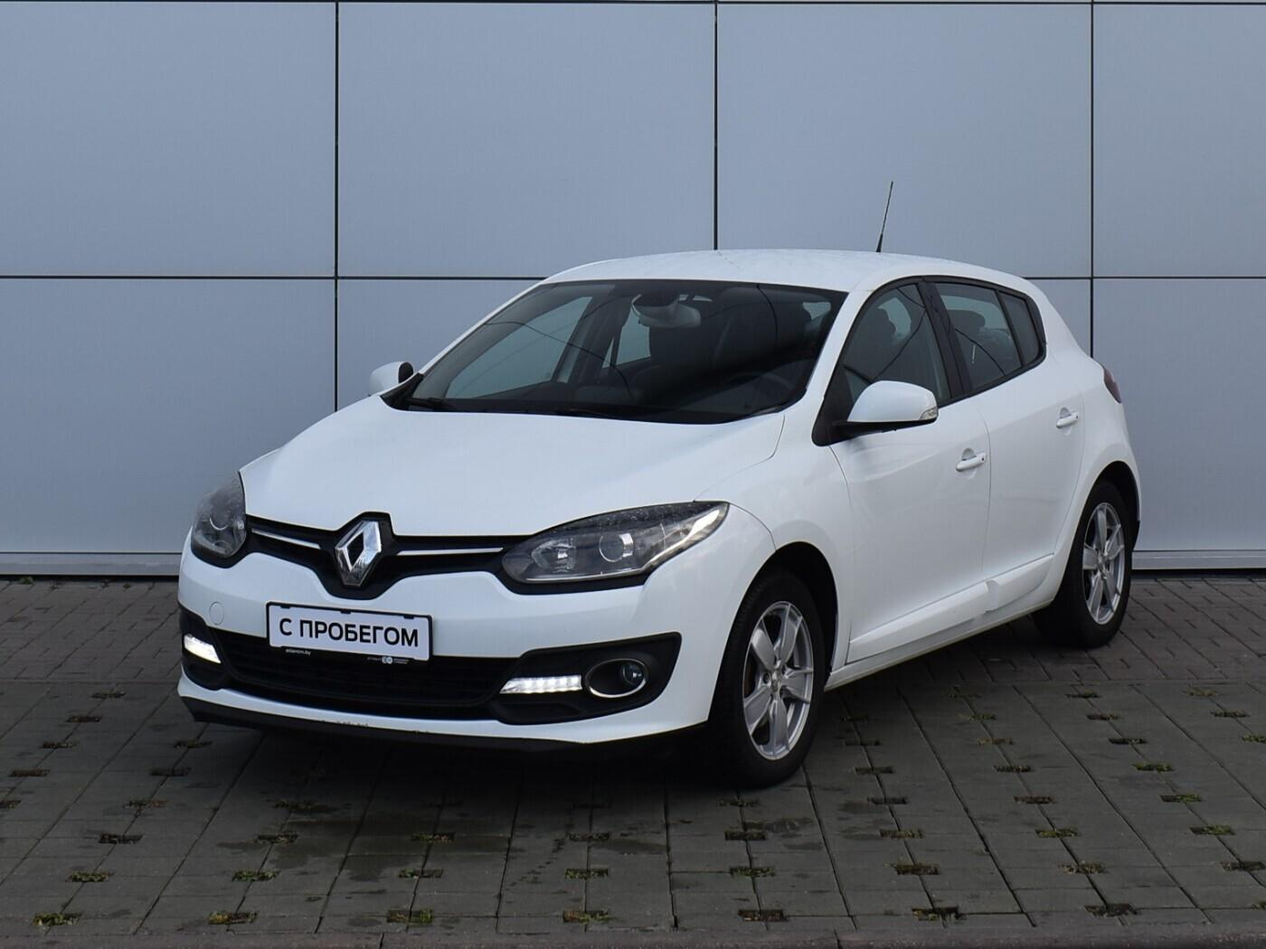Megane_2014-2016: (167, 238, 1152, 775)
